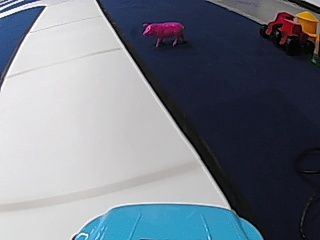pig: (138, 18, 186, 48)
